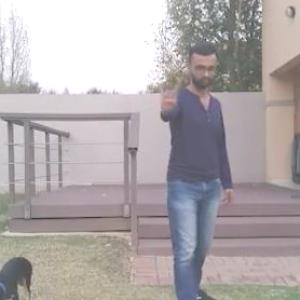takeoff-hand: (152, 71, 181, 120)
